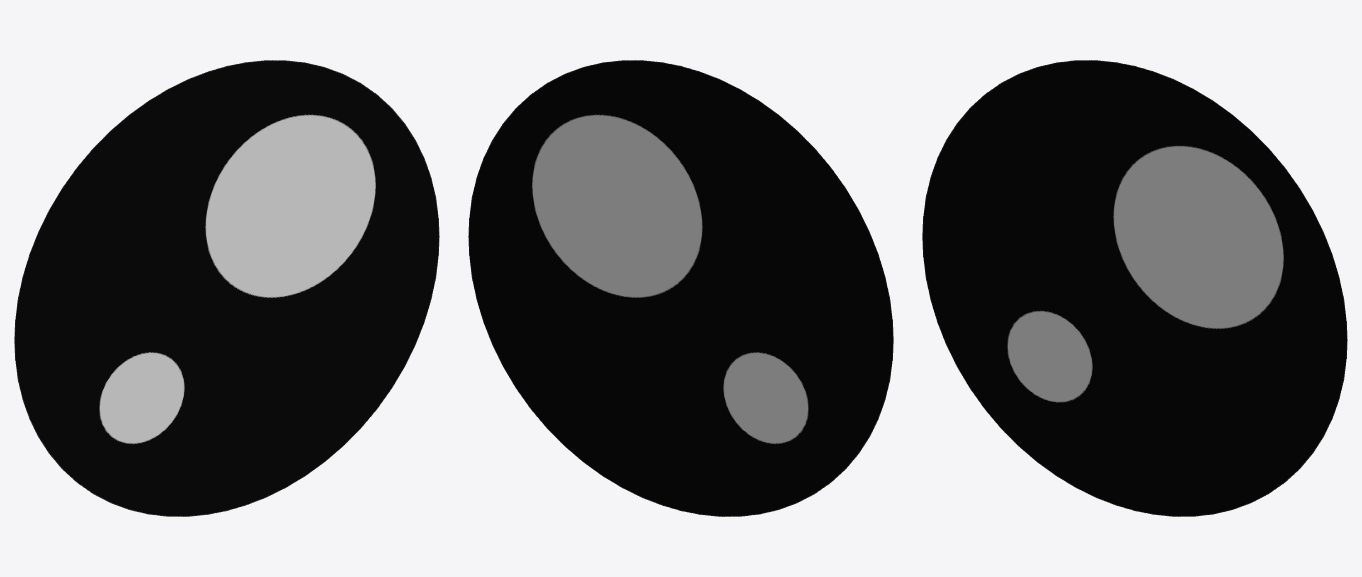
The model's file is Blendshape Eyes.fbx.
3 renders of one model, left to right at view 1: azimuth 30°, elevation 25°; view 2: azimuth 150°, elevation 25°; view 3: azimuth 330°, elevation 25°, orthographic.
Parts seen in each view (by area): view 1: pPlane3; view 2: pPlane3; view 3: pPlane3.
Boxes of the visible parts, bbox=[...] form: pPlane3: bbox=[14, 60, 439, 516]; pPlane3: bbox=[468, 60, 893, 516]; pPlane3: bbox=[922, 60, 1347, 516].
Size of the model in its own units: 1 by 1 by 1.61e-16.
1 material, 1 textured.
